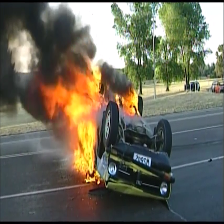fire_h: (39, 48, 108, 174), (121, 87, 142, 116)
fire_l: (85, 171, 101, 185), (113, 93, 119, 106)
